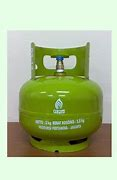gas_ijo: (19, 42, 103, 154)
